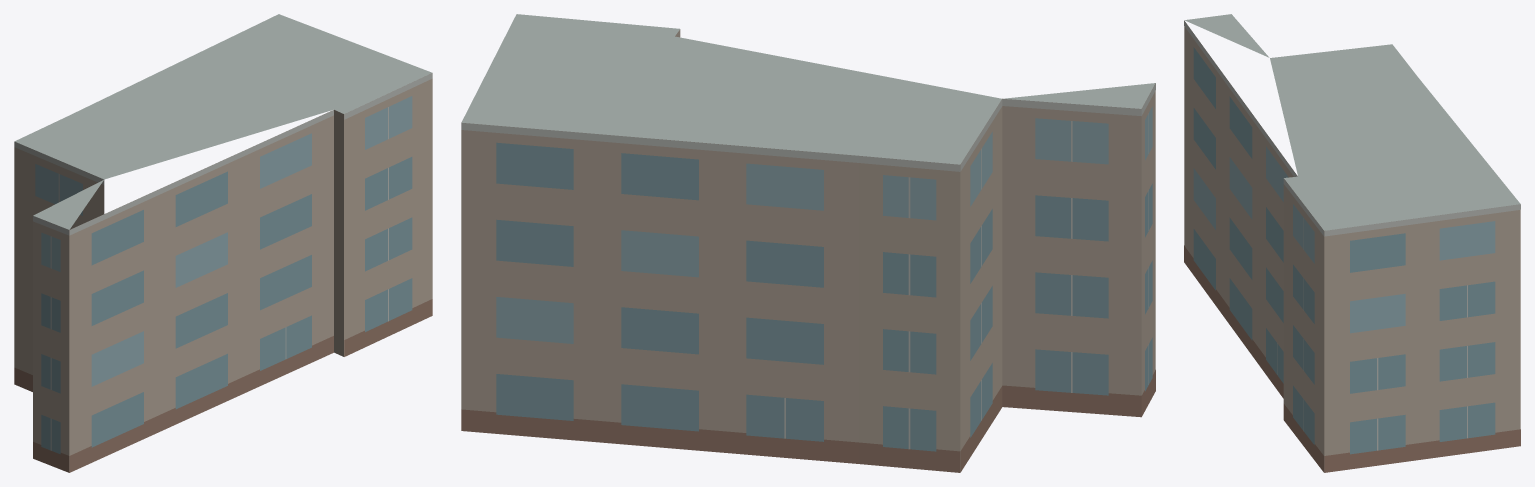
The model's file is survey-upis-32560863.glb.
3 renders of one model, left to right at view 1: azimuth 30°, elevation 25°; view 2: azimuth 150°, elevation 25°; view 3: azimuth 270°, elevation 25°, orthographic. The views are drawn at different scales.
Parts seen in each view (by area): view 1: survey-upis-32560863.tmp; view 2: survey-upis-32560863.tmp; view 3: survey-upis-32560863.tmp.
Boxes of the visible parts, box(x1,y1,x2,y2) form: survey-upis-32560863.tmp: box(14, 14, 432, 472); survey-upis-32560863.tmp: box(461, 14, 1155, 472); survey-upis-32560863.tmp: box(1184, 14, 1520, 472).
Bounding box in the file's own units: 20 × 10.4 × 13.12.
